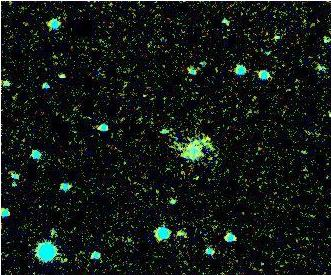star: (195, 121, 225, 151)
